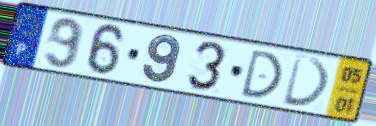3: (185, 40, 231, 93)
6: (85, 22, 128, 78)
9: (140, 32, 183, 85), (44, 16, 86, 70)
D: (280, 53, 333, 110), (238, 48, 284, 100)
